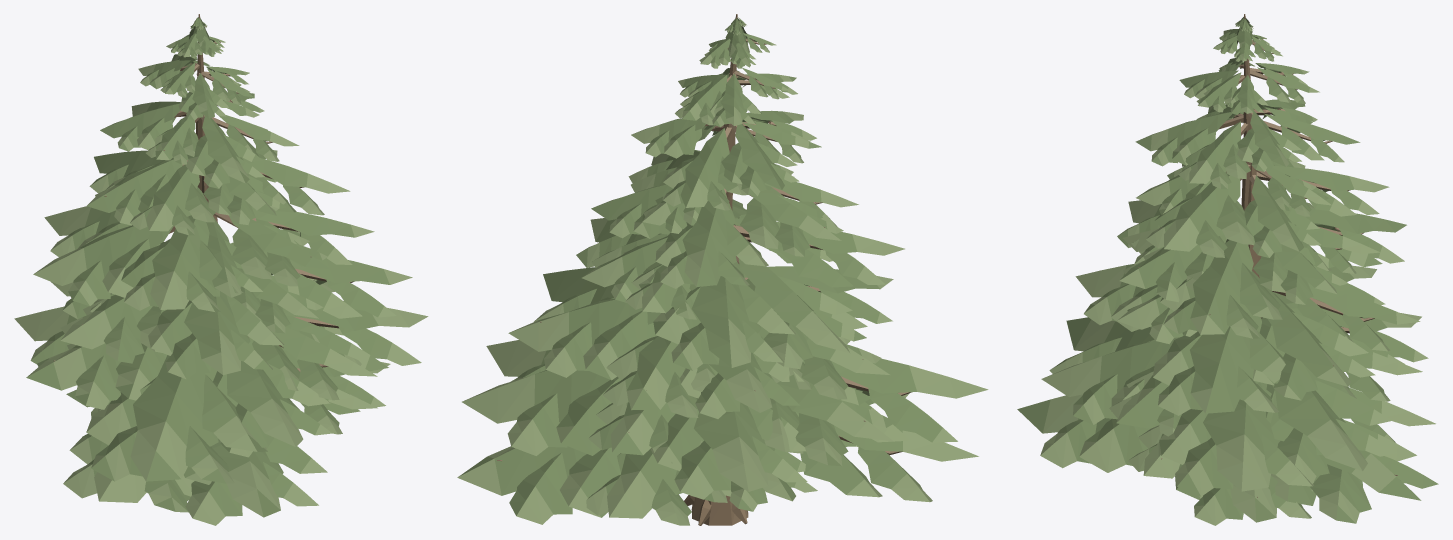
File: Tree_C.fbx
3 views of the same model, side by side, from view 1: azimuth 30°, elevation 25°; view 2: azimuth 150°, elevation 25°; view 3: azimuth 270°, elevation 25° (orthographic). The views are drawn at different scales.
Visible parts, largest first — view 1: Foliage, Wood; view 2: Foliage, Wood; view 3: Foliage, Wood.
Boxes of the visible parts, box(x1,y1,x2,y2) form: Foliage: box(14, 17, 428, 525); Wood: box(54, 14, 353, 371); Foliage: box(457, 17, 988, 525); Wood: box(497, 14, 911, 525); Foliage: box(1017, 17, 1438, 525); Wood: box(1138, 14, 1397, 497).
Bounding box in the file's own units: 1.87 × 2.1 × 1.73.
